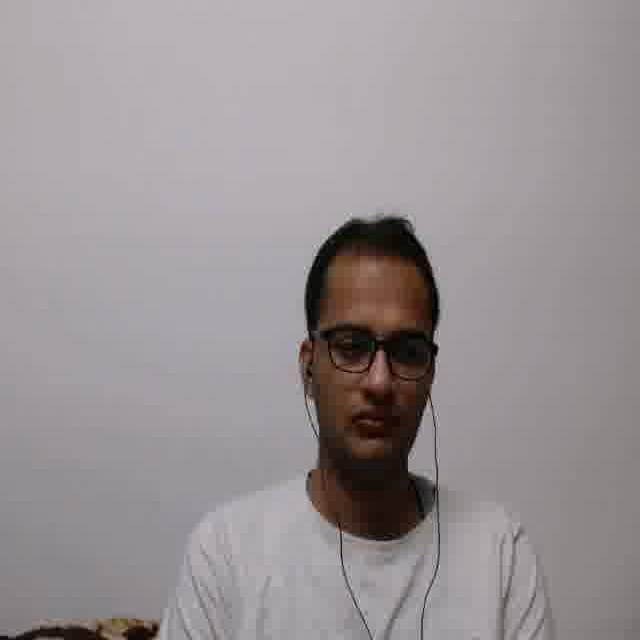Confusion: (314, 265, 429, 463)
